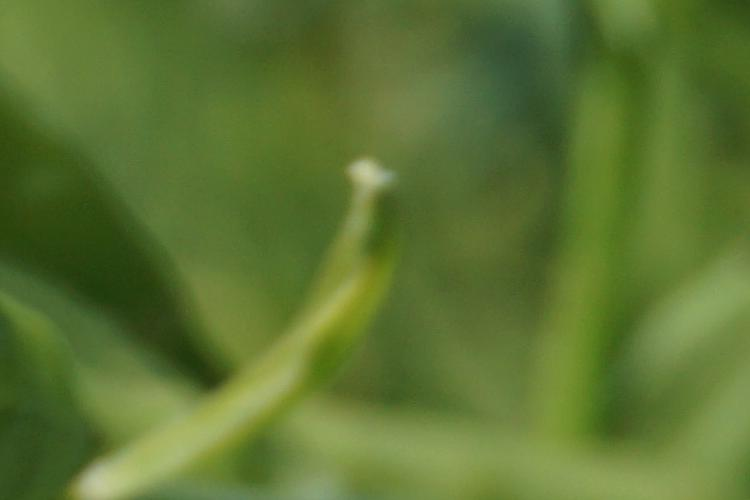pod: (143, 153, 414, 457)
